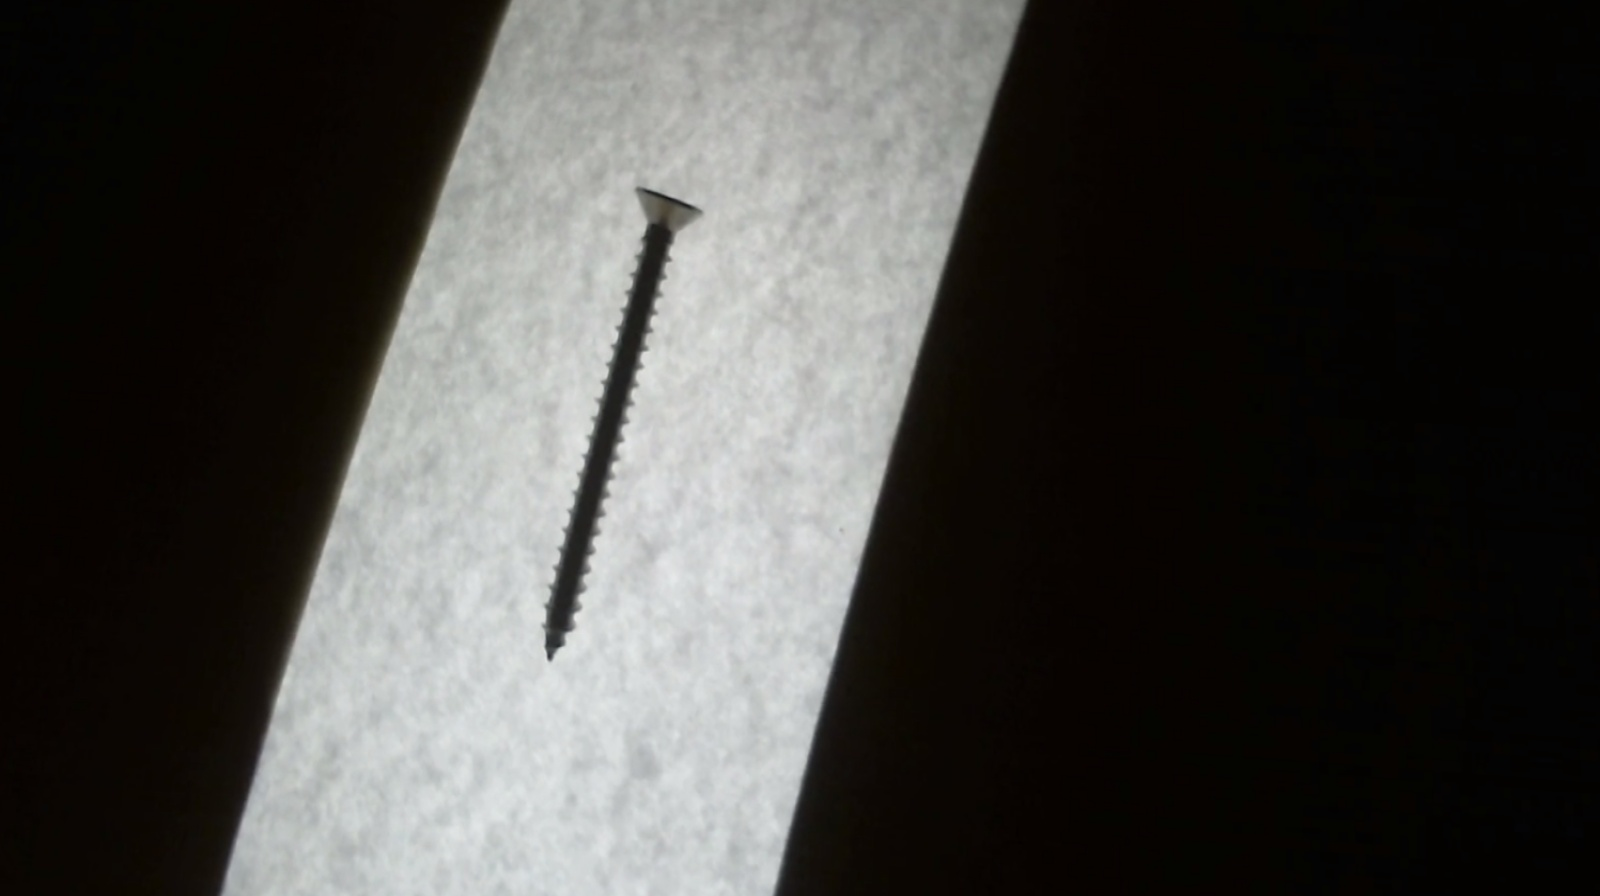S002: (513, 173, 725, 686)
